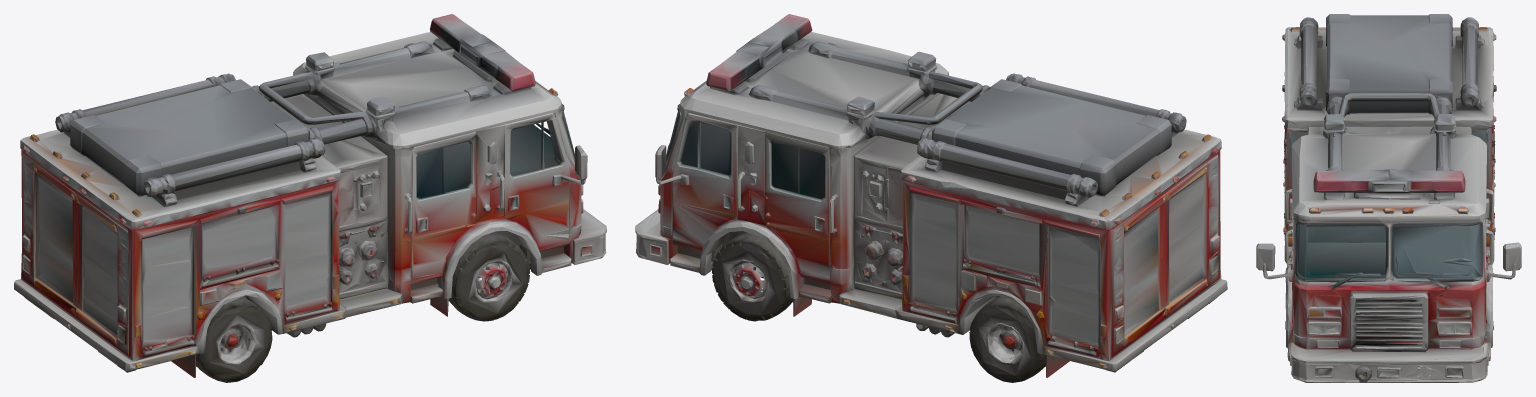
File: firetruck_b.glb
3 views of the same model, side by side, from view 1: azimuth 30°, elevation 25°; view 2: azimuth 150°, elevation 25°; view 3: azimuth 270°, elevation 25° (orthographic). The views are drawn at different scales.
Visible parts, largest first — view 1: tripo_node_ca14e122-302d-4bea-877a-0cec724e6921; view 2: tripo_node_ca14e122-302d-4bea-877a-0cec724e6921; view 3: tripo_node_ca14e122-302d-4bea-877a-0cec724e6921.
Boxes of the visible parts, bbox=[...] form: tripo_node_ca14e122-302d-4bea-877a-0cec724e6921: bbox=[14, 14, 606, 382]; tripo_node_ca14e122-302d-4bea-877a-0cec724e6921: bbox=[635, 14, 1227, 382]; tripo_node_ca14e122-302d-4bea-877a-0cec724e6921: bbox=[1256, 14, 1521, 382].
Bounding box in the file's own units: 0.9832 × 0.4274 × 0.4969.
